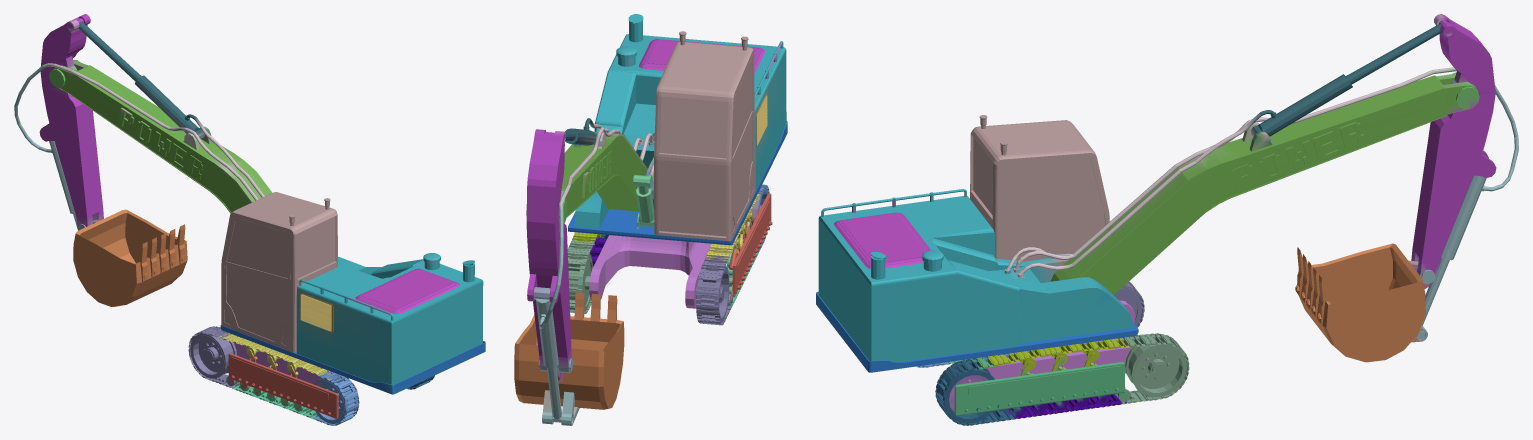
The picture shows the model from 3 angles, left to right: view 1: azimuth 30°, elevation 25°; view 2: azimuth 150°, elevation 25°; view 3: azimuth 270°, elevation 25°; orthographic projection. The views are drawn at different scales.
Parts seen in each view (by area): view 1: world; view 2: world; view 3: world.
Part boxes in pixels (x1,y1,x2,y2): world: [14, 14, 485, 425]; world: [514, 14, 787, 425]; world: [816, 14, 1518, 425].
Bounding box in the file's own units: 0.4069 × 0.4826 × 0.9672.
